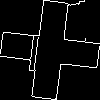I: (25, 25, 44, 72)
